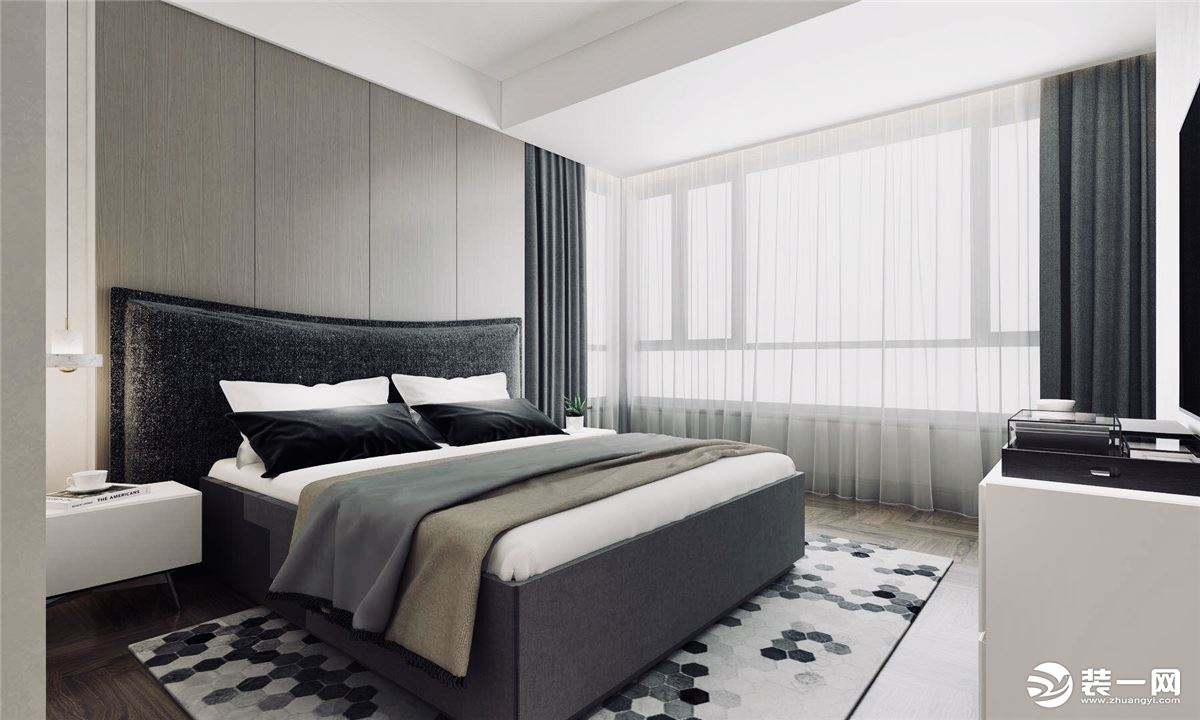床: (234, 420, 801, 693)
枕头: (226, 367, 539, 469)
灯: (51, 318, 104, 377)
